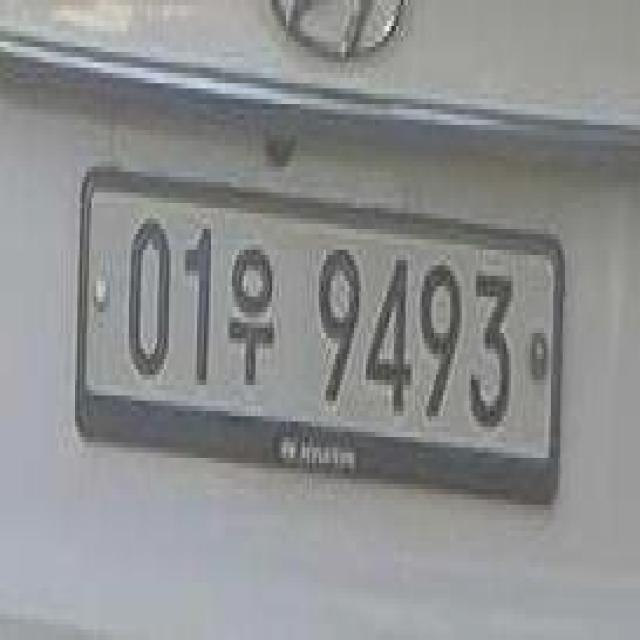illegal_plate: (75, 166, 571, 524)
